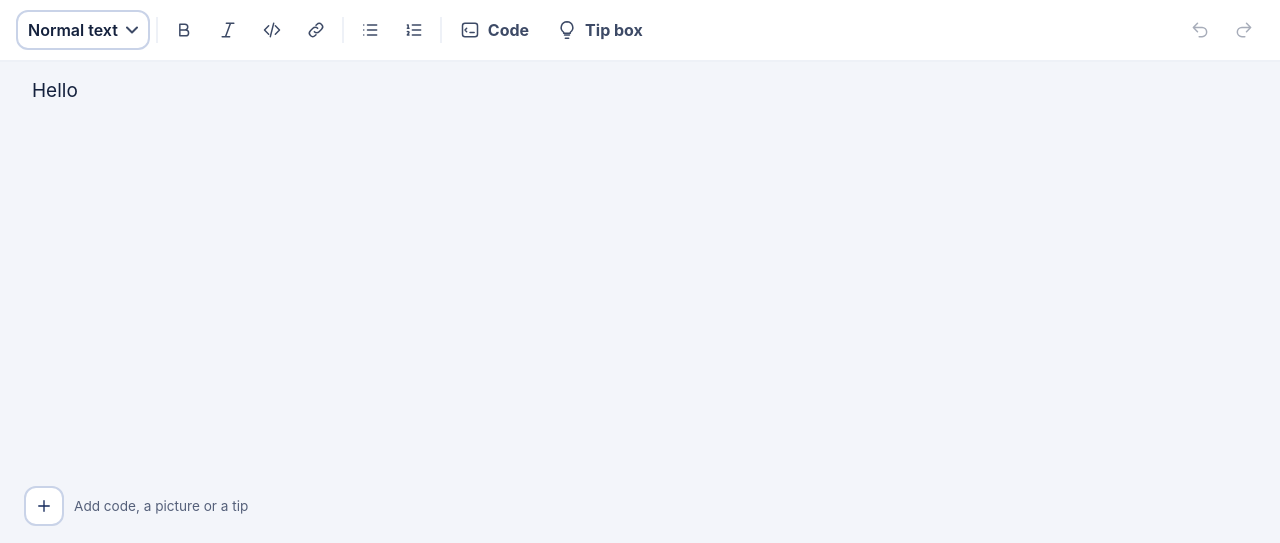
Scenario: NoteEditor › opens the + menu, and adds a tip box from it
Click the button named "Add code, a picture or a tip": click(44, 506) [24, 486, 64, 526]
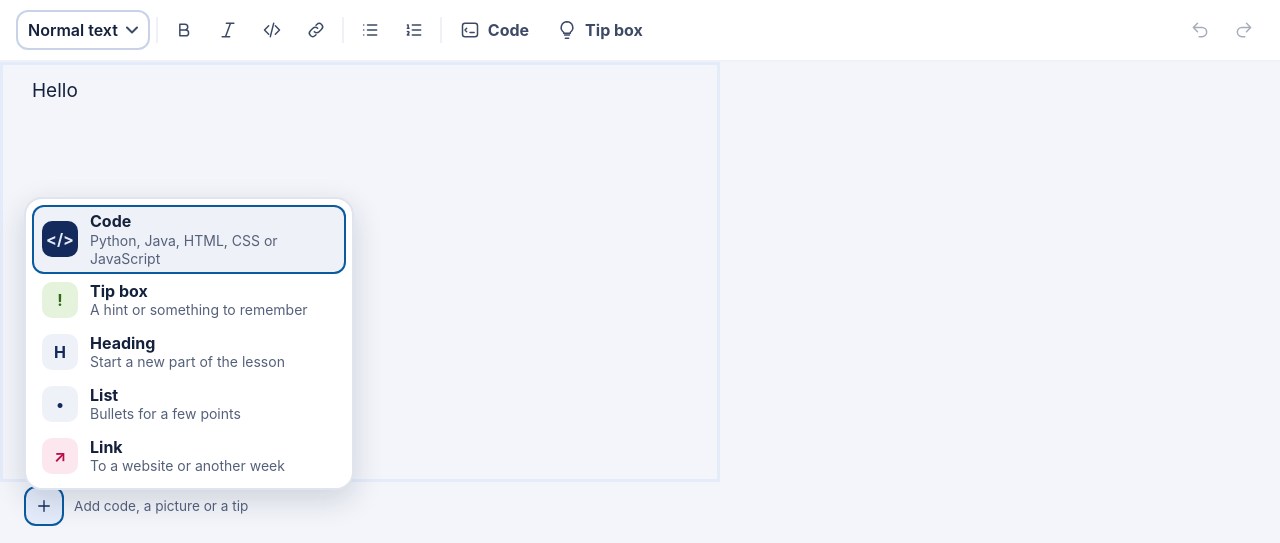
Press ArrowDown in the menu item "</> Code Python, Java, HTML, CSS or JavaScript", box [32, 205, 346, 274]
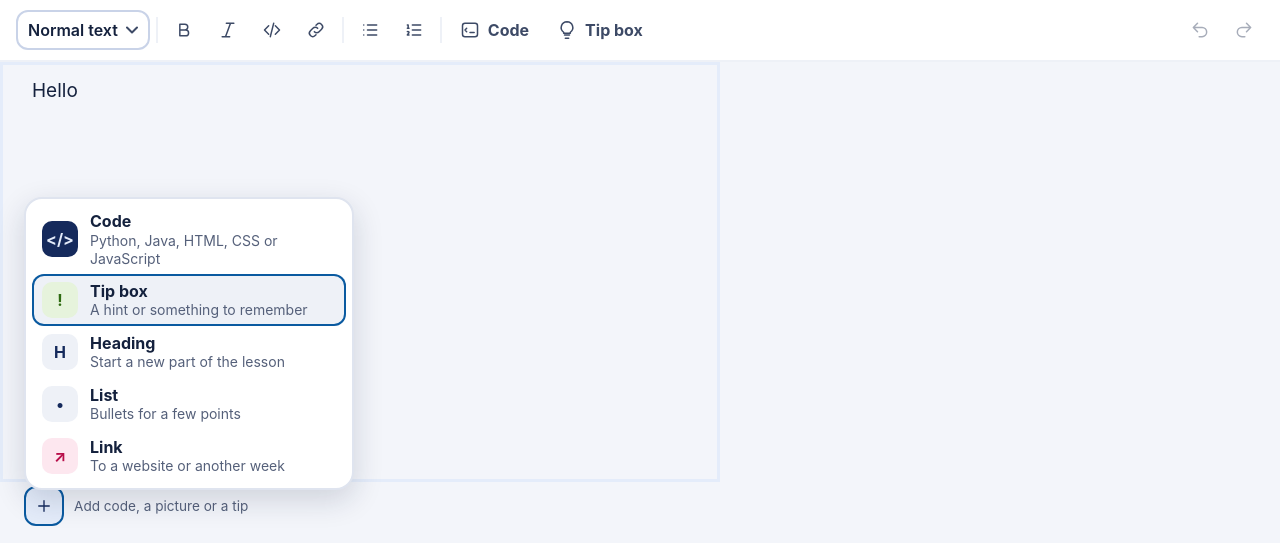
Click the menu item "! Tip box A hint or something to remember": click(189, 300) [32, 274, 346, 326]
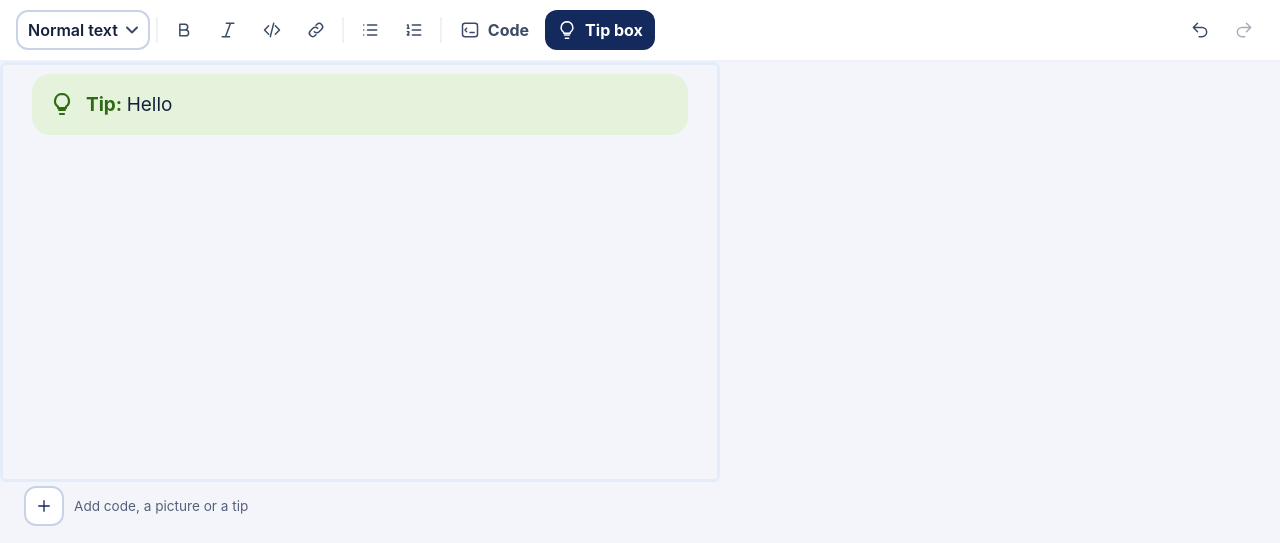
Check: the menu is gone
